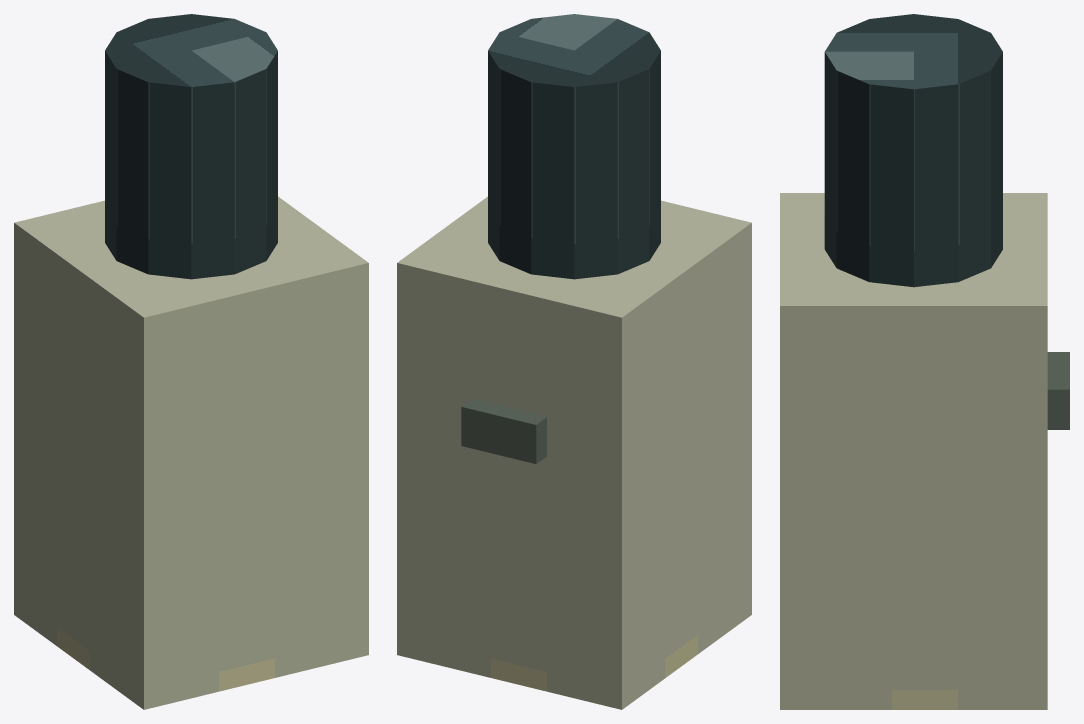
The model's file is water_dispenser.gltf.
3 views of the same model, side by side, from view 1: azimuth 30°, elevation 25°; view 2: azimuth 150°, elevation 25°; view 3: azimuth 270°, elevation 25° (orthographic). The views are drawn at different scales.
Parts seen in each view (by area): view 1: base, bottle; view 2: base, bottle, tap; view 3: base, bottle, tap.
Part boxes in pixels (x1,y1,x2,y2): base: (14,196,368,709); bottle: (105,14,277,279); base: (397,196,751,709); bottle: (488,14,660,279); tap: (461,399,546,463); base: (780,193,1047,709); bottle: (824,14,1002,287); tap: (1047,352,1069,429).
Size of the model in its own units: 0.75 by 1.86 by 0.8125.
Materials: 3 (3 with a texture image).
